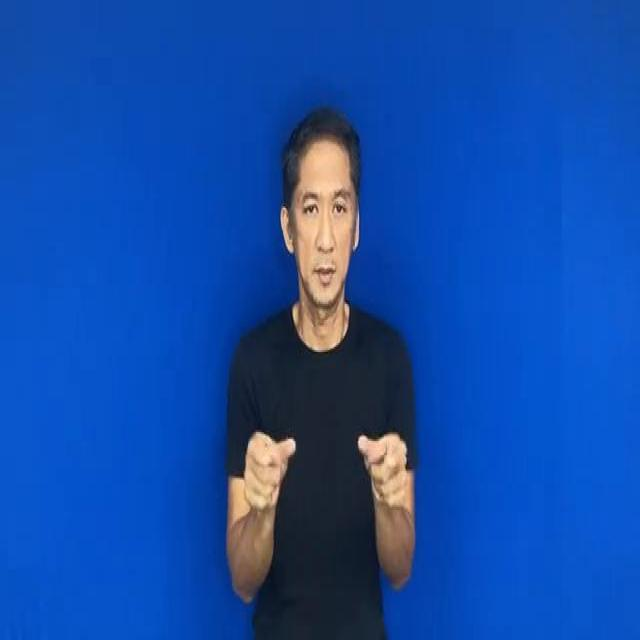crab: (237, 420, 307, 519), (348, 411, 414, 511)
